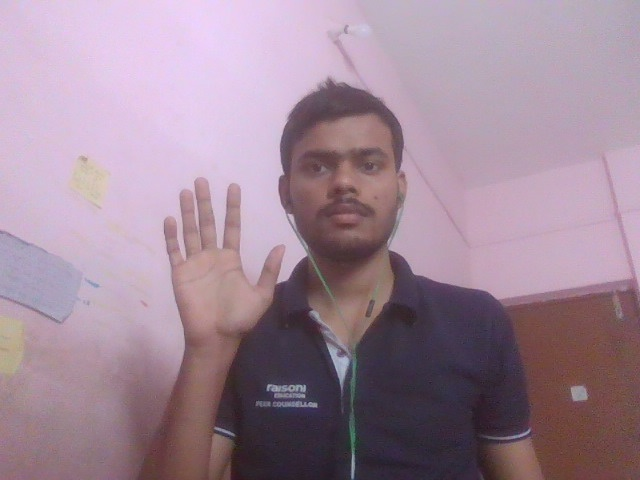Hello: (95, 164, 327, 369)
